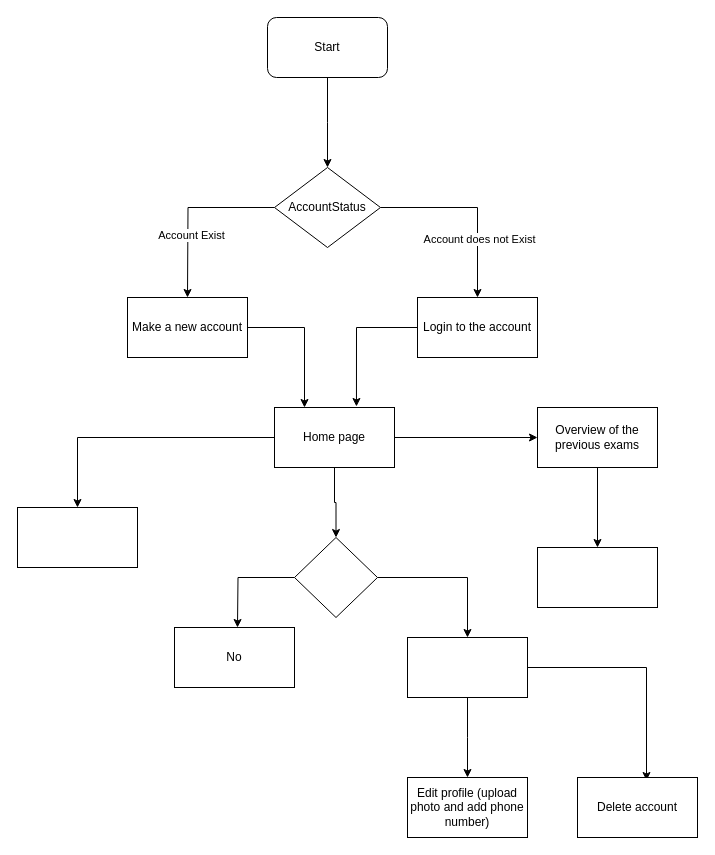
This 715x855 diagram has some shape labels left out. Each missing label, with the centre of its shape:
"Take the exam" goes at point 77,537.
"View the results" goes at point 597,577.
"View your profile" goes at point 336,577.
"Yes" goes at point 467,667.
